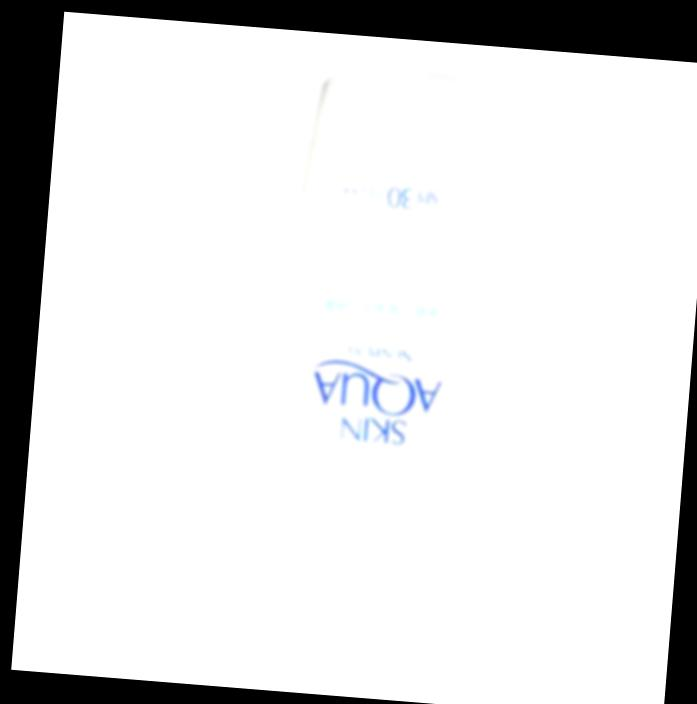cosmetic: (262, 79, 494, 655)
